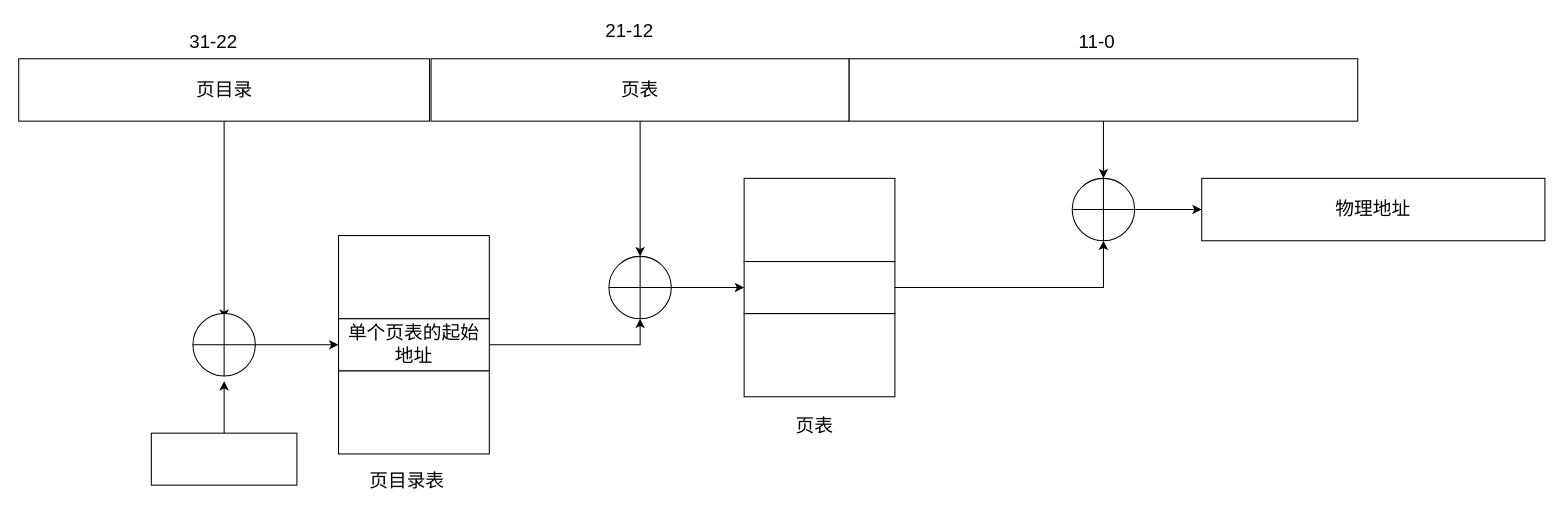
Some shapes in this 1563 by 511 pixel diagram are drawn without their labels. The shapes that lost their labels are listed below. From the top down, each one's box as (x1, y1, x2, y2) in pixels, then its label:
(848, 58, 1358, 121): 页内位移
(150, 432, 297, 485): CR3 寄存器
